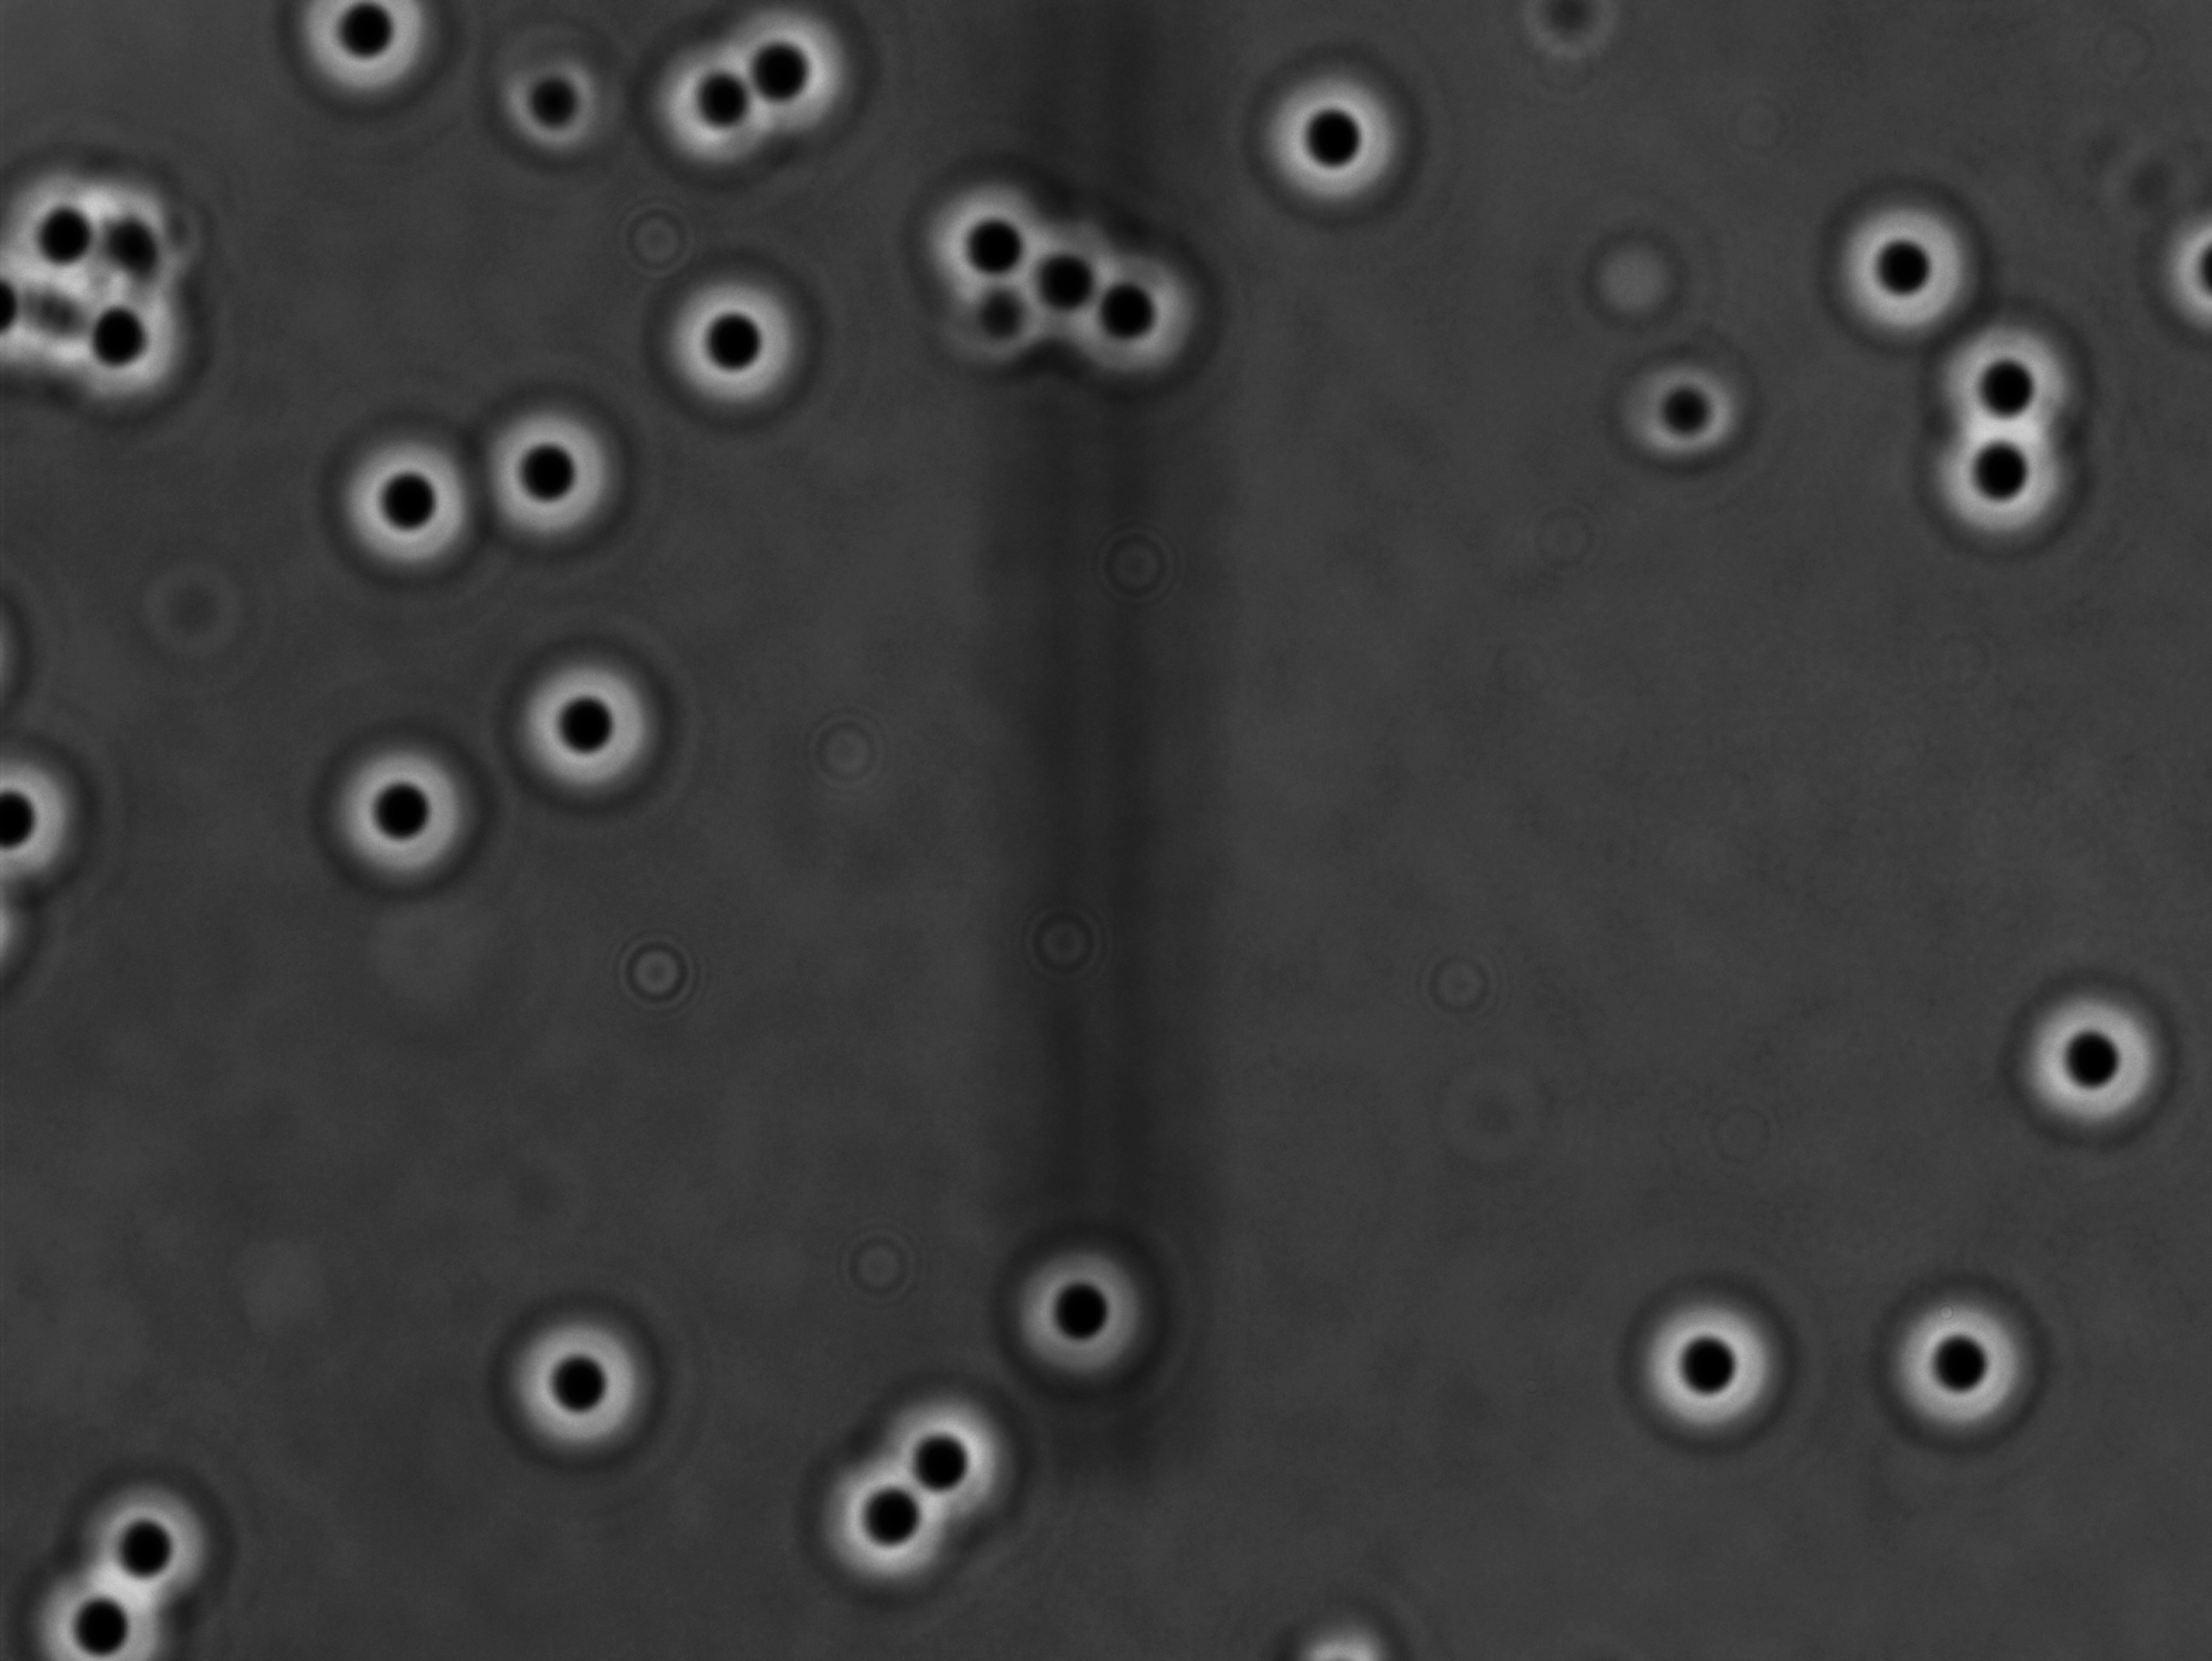depth:-60: (1607, 1256, 1823, 1455), (492, 623, 694, 822), (2004, 961, 2210, 1153), (1910, 274, 2116, 461), (298, 712, 502, 899), (1863, 1265, 2069, 1446), (488, 1277, 680, 1471), (1809, 180, 2006, 366), (314, 398, 488, 593), (993, 1228, 1186, 1403), (1244, 45, 1425, 223), (782, 1434, 961, 1610), (473, 387, 645, 567), (642, 255, 822, 426), (1915, 396, 2083, 569), (865, 1366, 1041, 1527)
